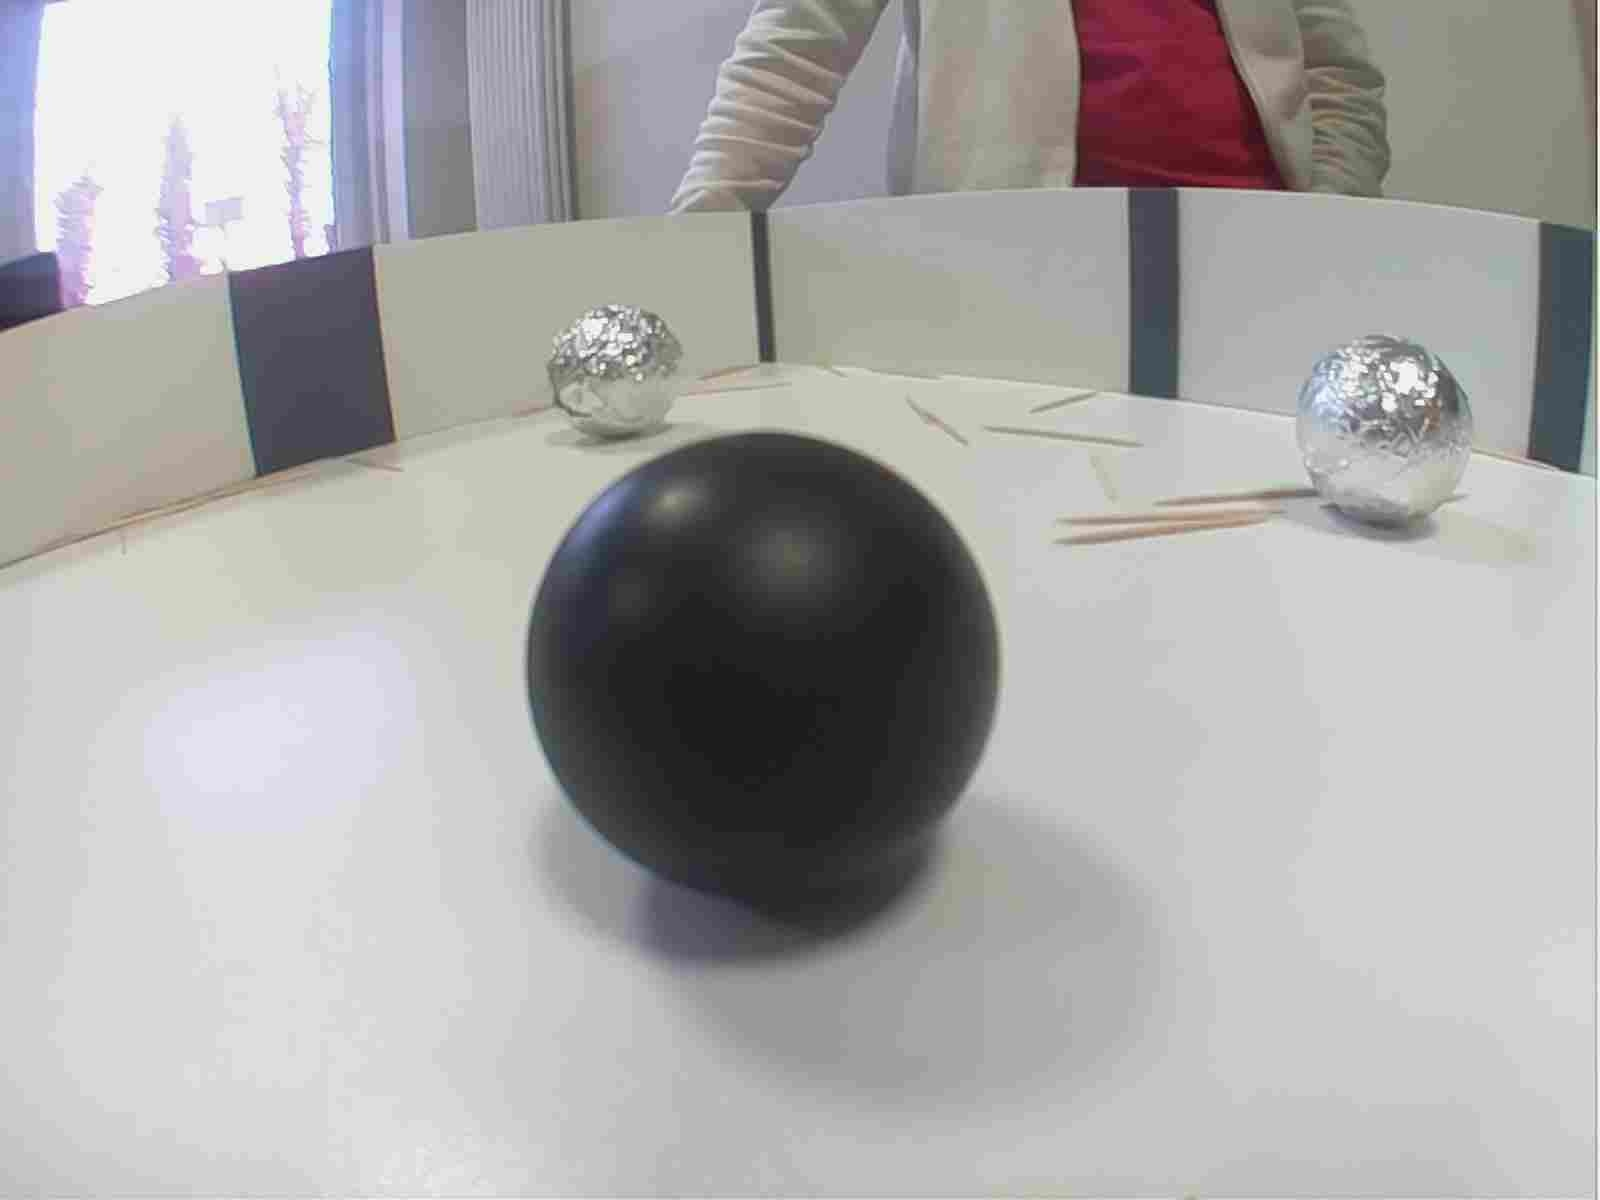bianca: (1289, 338, 1477, 541), (543, 303, 689, 442)
nera: (517, 429, 1010, 905)
